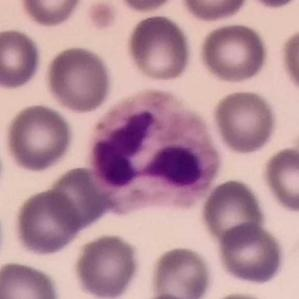Neutrophil: (85, 84, 224, 220)
RBC: (3, 101, 75, 174), (12, 187, 83, 258), (124, 12, 194, 84), (42, 44, 114, 114), (71, 231, 143, 299), (215, 221, 288, 288), (199, 177, 267, 246), (198, 21, 270, 85), (211, 88, 279, 155), (44, 162, 109, 230), (145, 244, 212, 299), (0, 26, 44, 91), (260, 145, 299, 214), (0, 259, 63, 299), (16, 0, 85, 28), (178, 0, 249, 23), (278, 26, 299, 98), (111, 0, 183, 14), (203, 289, 278, 299), (246, 0, 299, 10)
